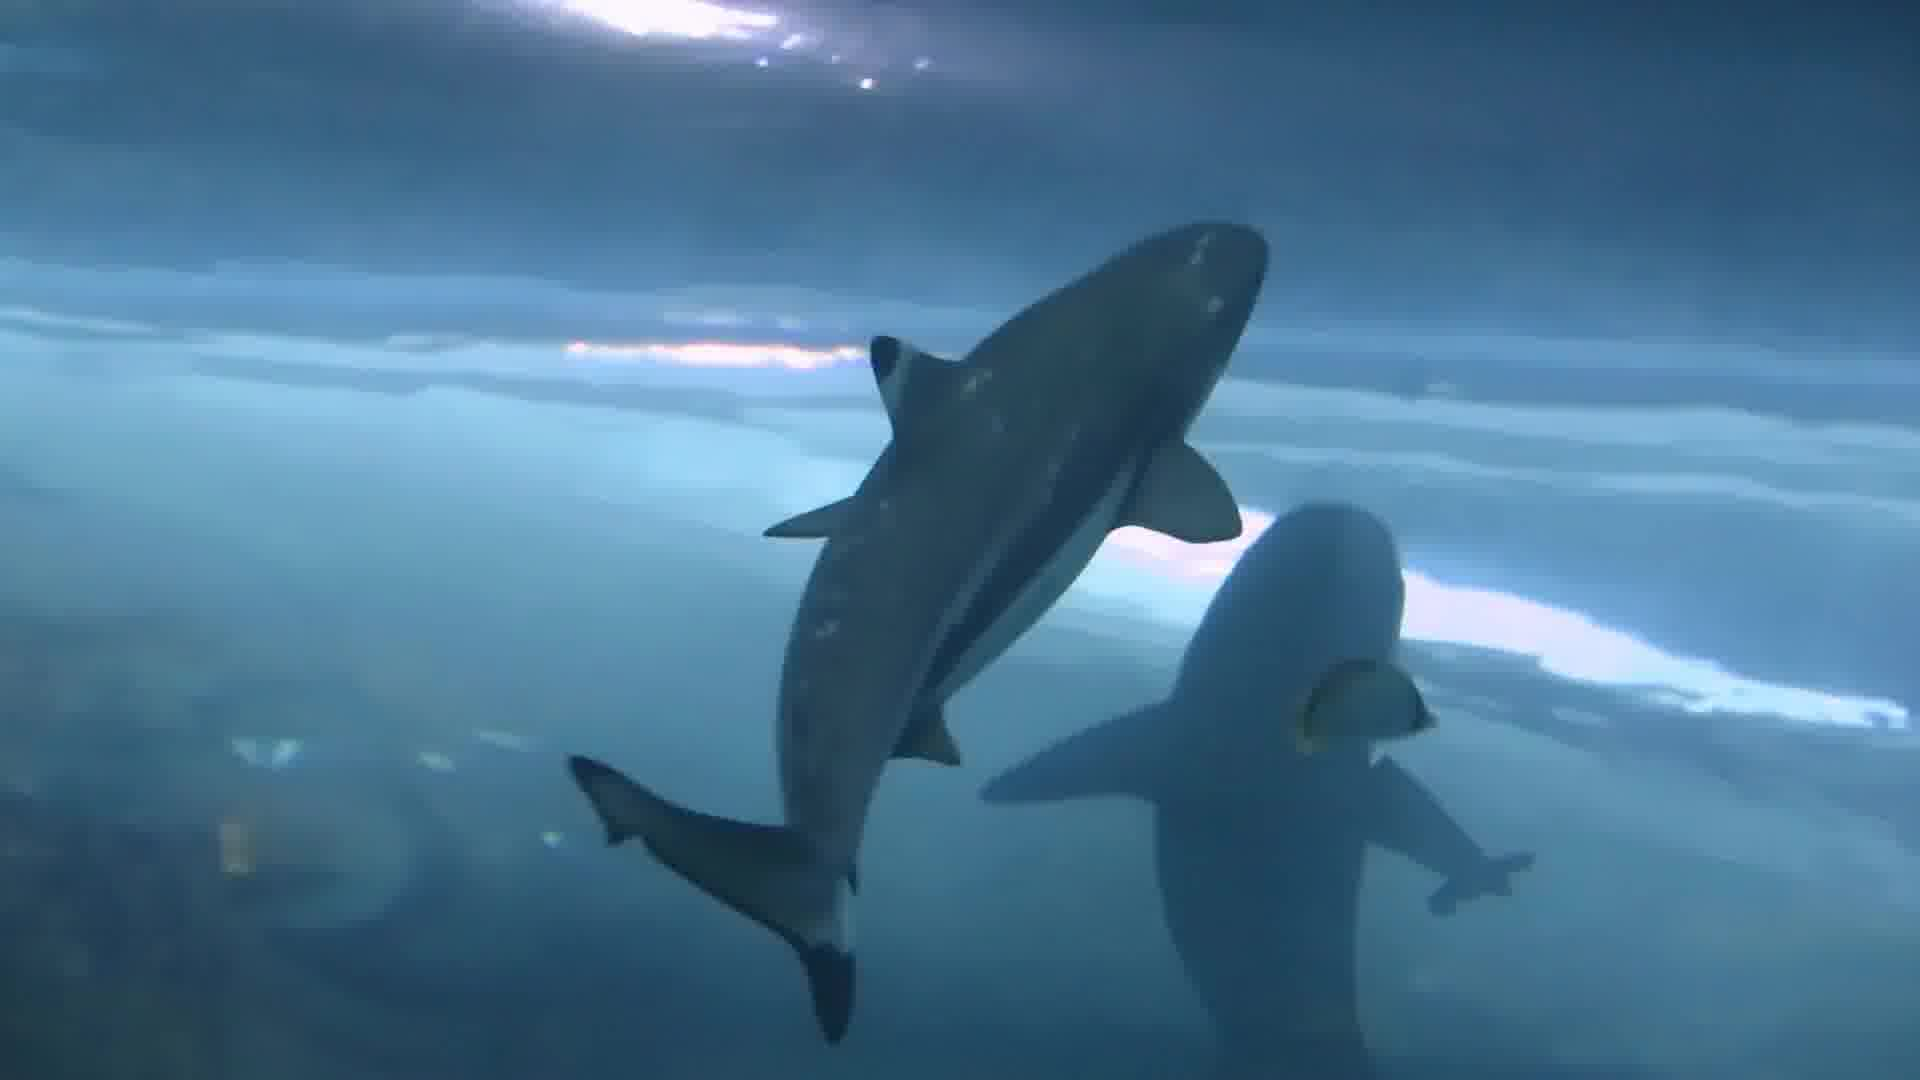Carcharhinus melanopterus: (481, 224, 1378, 1015)
